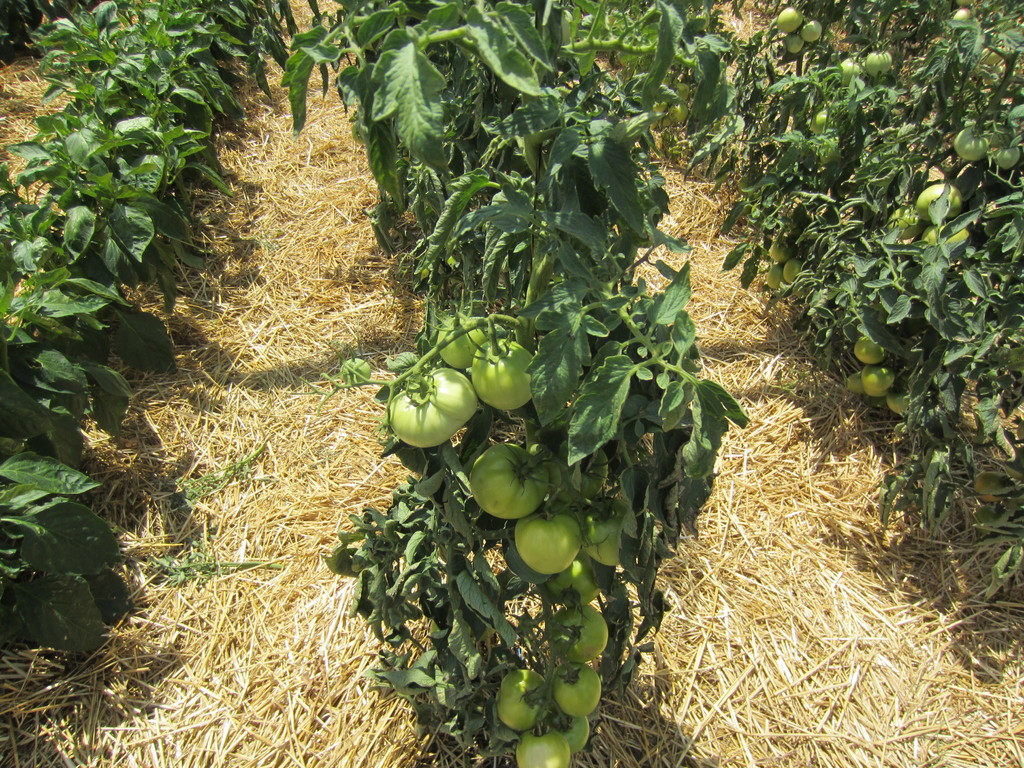Tomato: (384, 300, 624, 767), (917, 182, 963, 219), (922, 220, 972, 248), (858, 362, 895, 395), (853, 330, 887, 362), (954, 124, 984, 157), (990, 149, 1022, 173), (778, 5, 805, 31), (865, 51, 890, 78), (765, 265, 785, 291), (803, 14, 821, 40), (769, 243, 790, 264), (670, 103, 689, 124), (786, 30, 802, 53), (784, 261, 805, 277), (672, 81, 688, 94)
